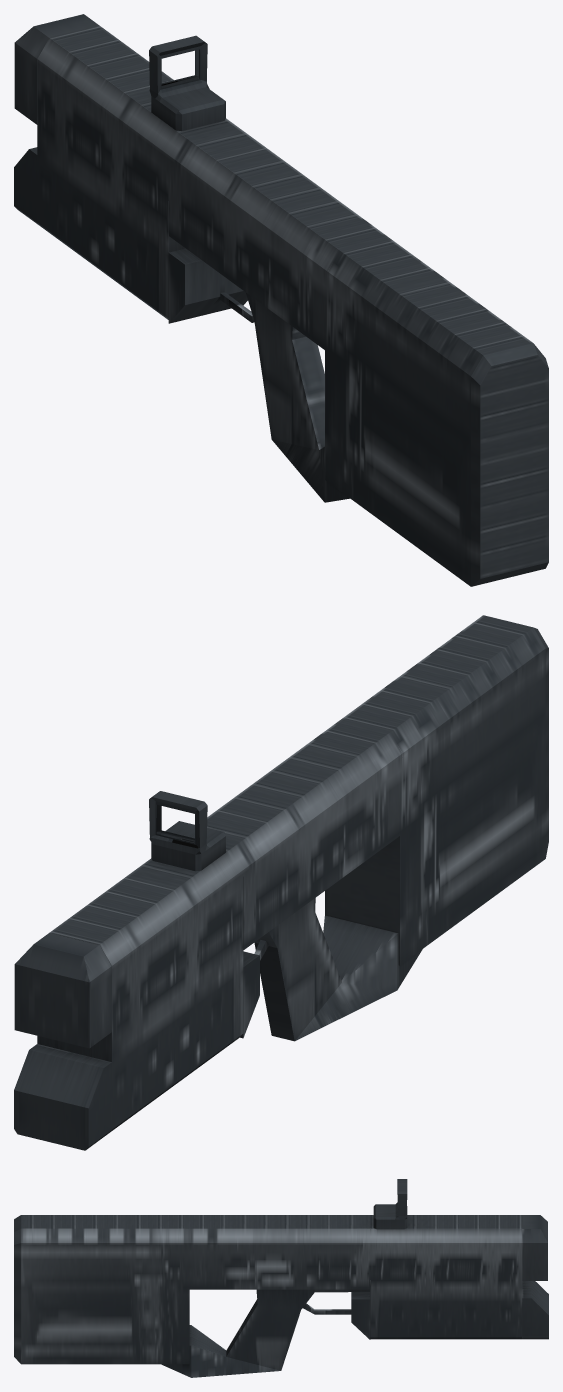
File: designator.glb
3 views of the same model, one above another, from view 1: azimuth 30°, elevation 25°; view 2: azimuth 150°, elevation 25°; view 3: azimuth 270°, elevation 25° (orthographic). The views are drawn at different scales.
Visible parts, largest first — view 1: designator; view 2: designator; view 3: designator.
Boxes of the visible parts, bbox=[...] form: designator: bbox=[14, 14, 548, 586]; designator: bbox=[14, 615, 548, 1150]; designator: bbox=[14, 1179, 548, 1377].
Size of the model in its own units: 0.0746 by 0.301 by 0.8.
1 material, 1 textured.
